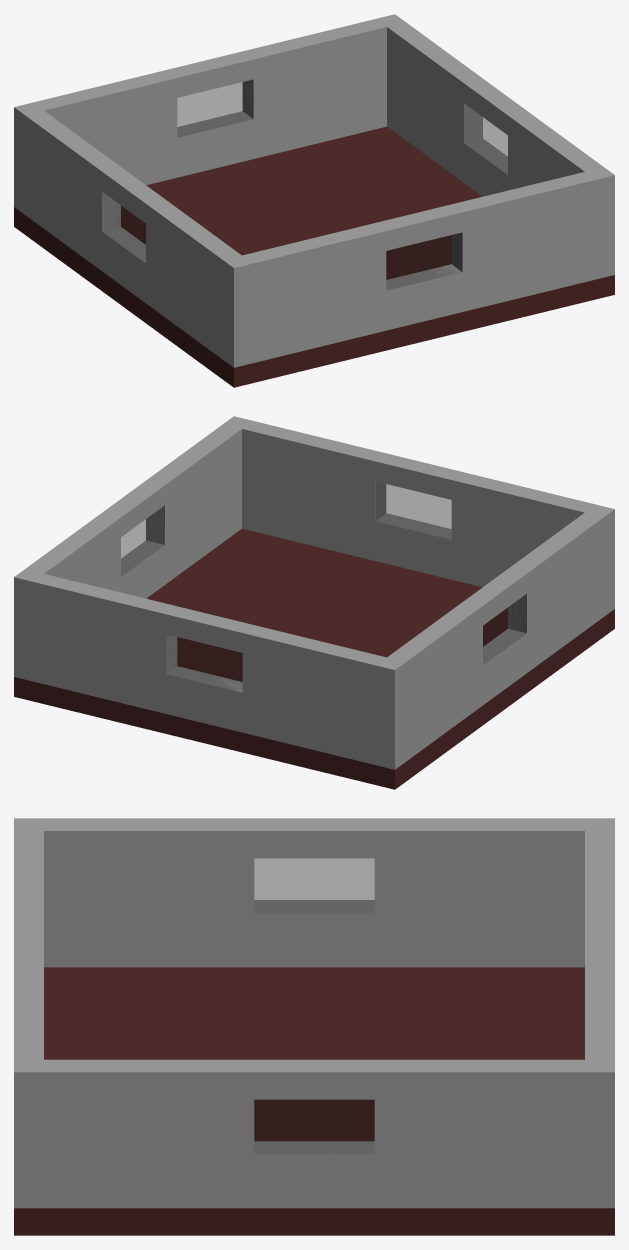
File: blenderhousetrimine2.obj
3 renders of one model, top to bottom at view 1: azimuth 30°, elevation 25°; view 2: azimuth 150°, elevation 25°; view 3: azimuth 270°, elevation 25°, orthographic. The views are drawn at different scales.
Visible parts, largest first — view 1: Default_object_1.001, Cube_Cube.001, Default_object_1.003, Default_object_1, Default_object_1.002, Default_object_1.006, Default_object_1.007, Default_object_1.005, Default_object_1.004; view 2: Default_object_1.003, Cube_Cube.001, Default_object_1.001, Default_object_1, Default_object_1.002, Default_object_1.006, Default_object_1.007, Default_object_1.005, Default_object_1.004; view 3: Default_object_1.002, Default_object_1, Cube_Cube.001, Default_object_1.001, Default_object_1.003, Default_object_1.005, Default_object_1.004.
Part boxes in pixels (x1,y1,x2,y2): Default_object_1.001: [234, 172, 614, 367]; Cube_Cube.001: [14, 126, 614, 387]; Default_object_1.003: [14, 14, 394, 185]; Default_object_1: [14, 107, 241, 367]; Default_object_1.002: [387, 14, 613, 196]; Default_object_1.006: [177, 80, 253, 137]; Default_object_1.007: [386, 233, 461, 290]; Default_object_1.005: [102, 192, 145, 262]; Default_object_1.004: [464, 104, 507, 174]; Default_object_1.003: [14, 574, 394, 769]; Cube_Cube.001: [14, 528, 614, 789]; Default_object_1.001: [234, 416, 614, 587]; Default_object_1: [387, 509, 614, 769]; Default_object_1.002: [15, 416, 241, 598]; Default_object_1.006: [166, 635, 242, 691]; Default_object_1.007: [376, 482, 451, 539]; Default_object_1.005: [483, 594, 526, 664]; Default_object_1.004: [121, 506, 164, 576]; Default_object_1.002: [14, 1059, 614, 1208]; Default_object_1: [14, 818, 614, 967]; Cube_Cube.001: [14, 967, 614, 1235]; Default_object_1.001: [14, 818, 43, 1071]; Default_object_1.003: [585, 818, 614, 1071]; Default_object_1.005: [254, 858, 374, 912]; Default_object_1.004: [254, 1100, 374, 1153].
Bounding box in the file's own units: 20 × 6 × 20.
